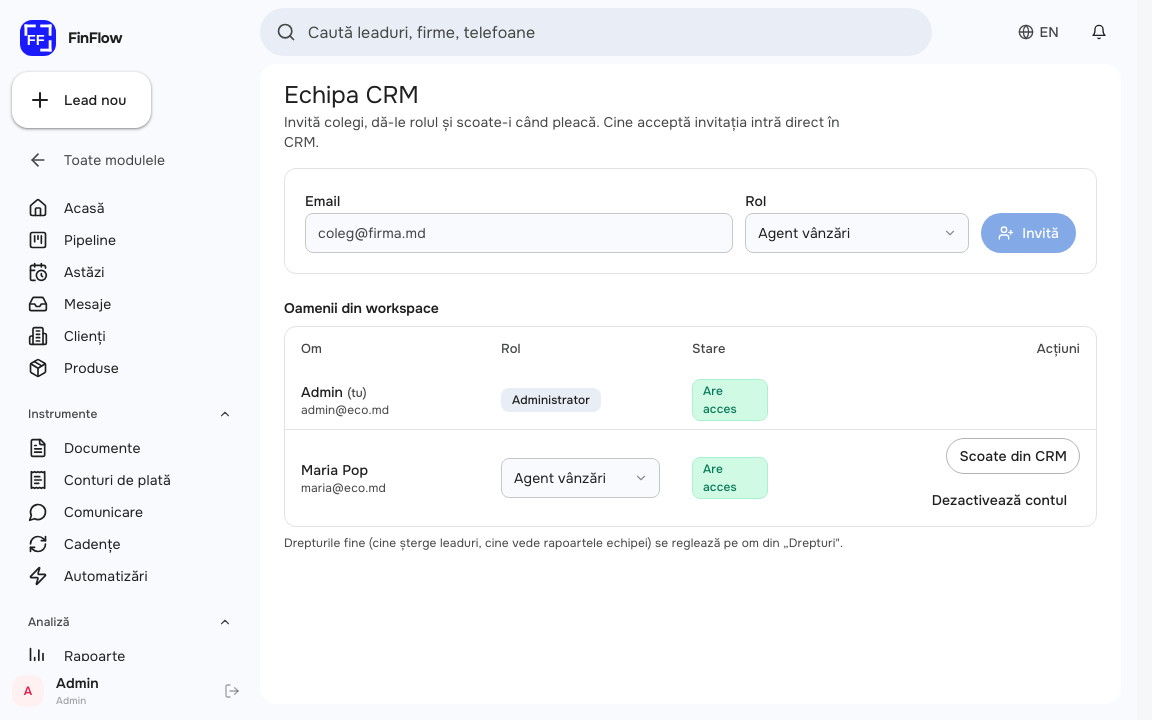
Test case: Ecranul Echipă › [blocant] invitația pleacă cu emailul și rolul alese, iar linkul apare pe ecran
Expected: the text "Maria Pop" is shown, [301, 461, 368, 479]
Type "ion@eco.md" into the field labelled "Email" at (519, 233), box [305, 213, 733, 253]
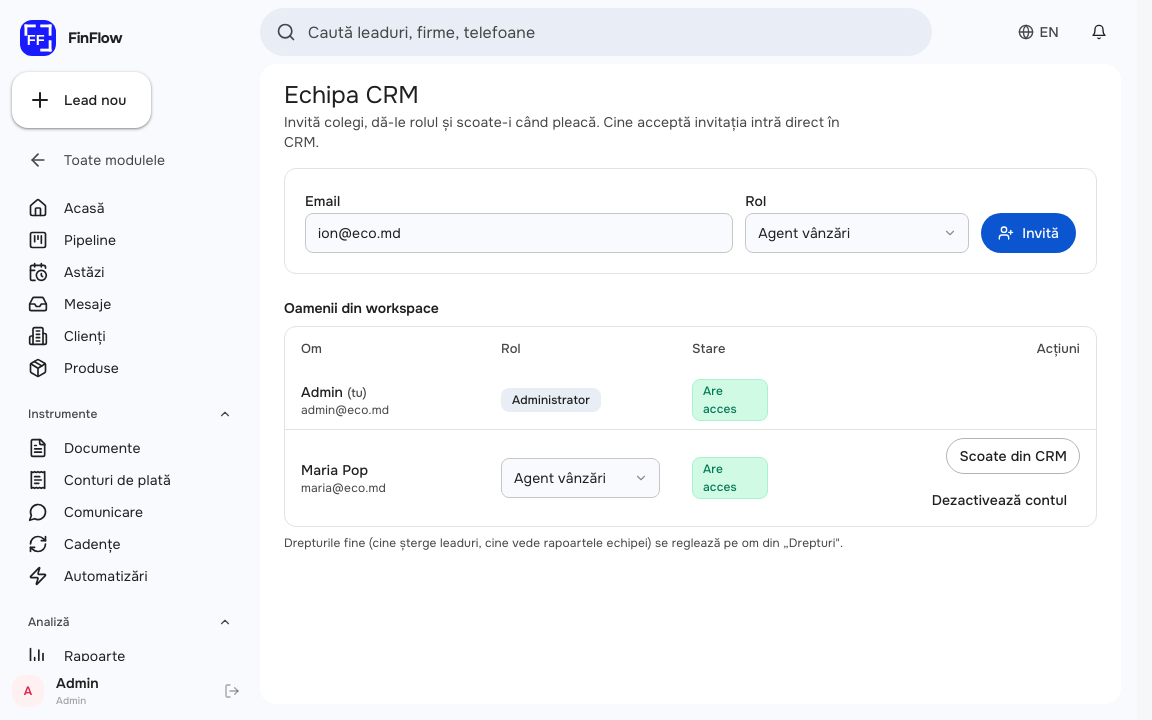
Select "Manager vânzări" in the dropdown labelled "Rol" at (857, 233), box [745, 213, 969, 253]
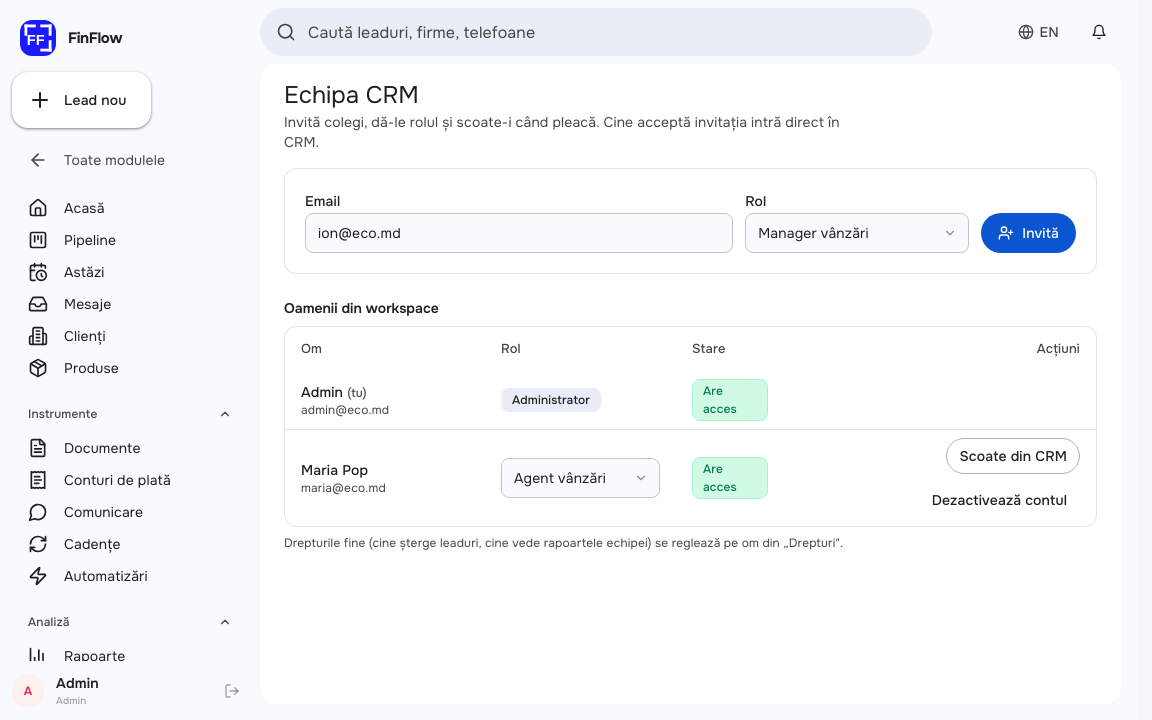
Click the button "Invită" at (1029, 233), box [981, 213, 1076, 253]
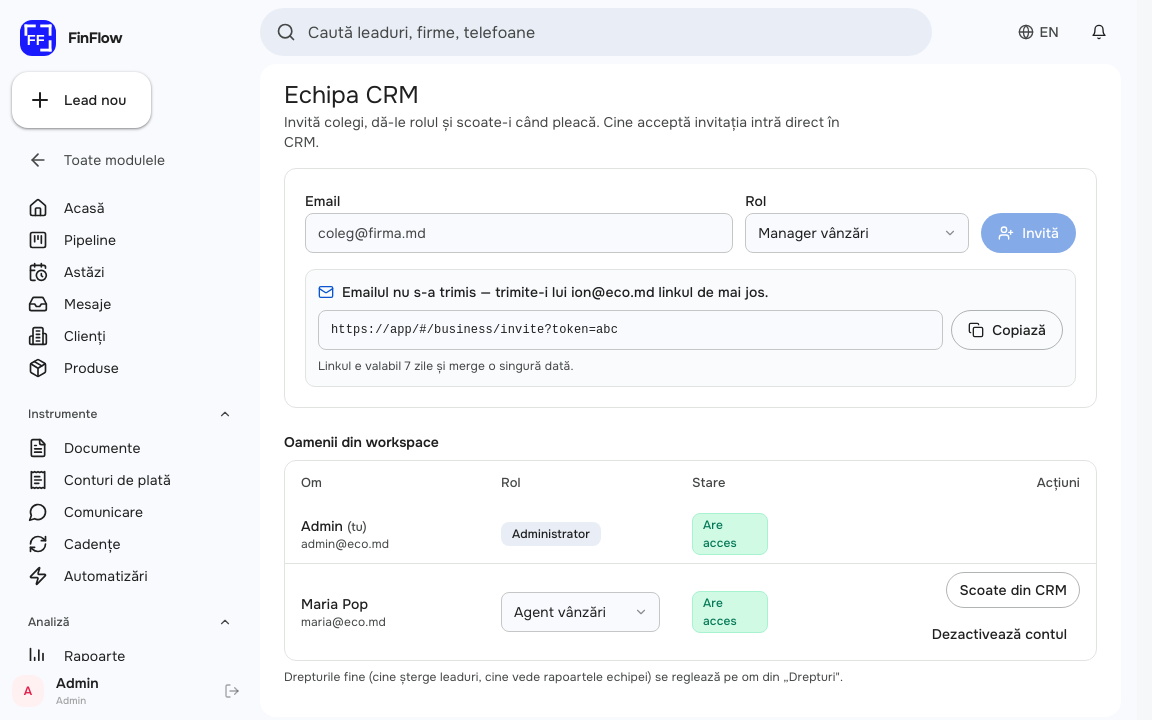
Expected: the field showing "https://app/#/business/invite?token=abc" is shown, [318, 310, 943, 350]
Expected: the text "Emailul nu s-a trimis" is shown, [342, 283, 769, 301]
